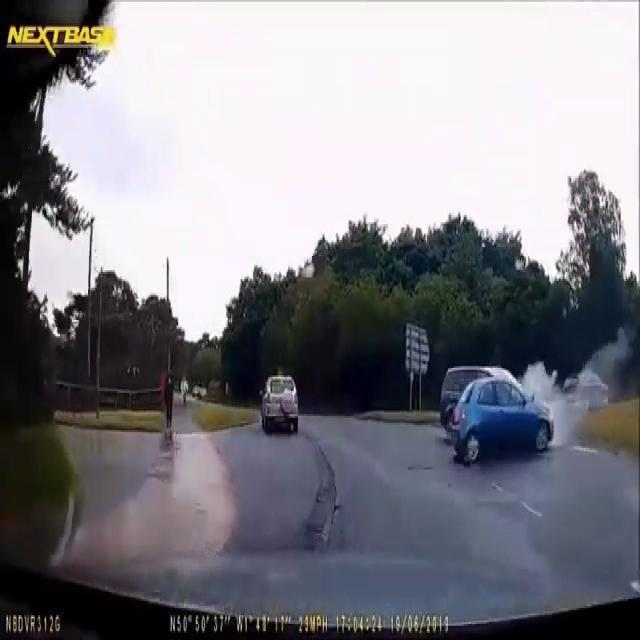moderate: (435, 355, 558, 472)
